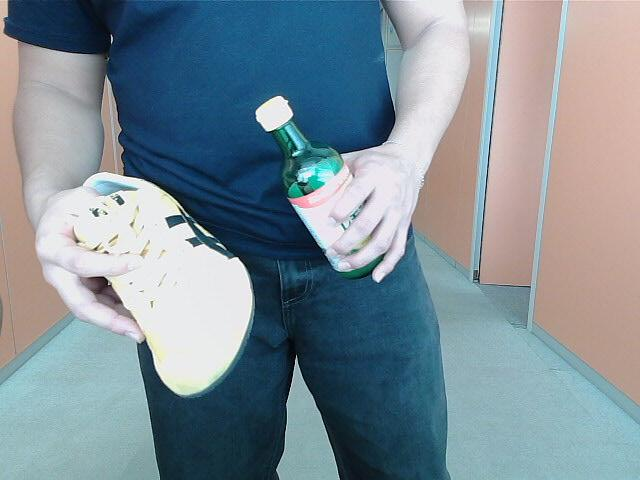Lemon_sapporo: (254, 94, 401, 278)
Shoes: (72, 173, 256, 398)
